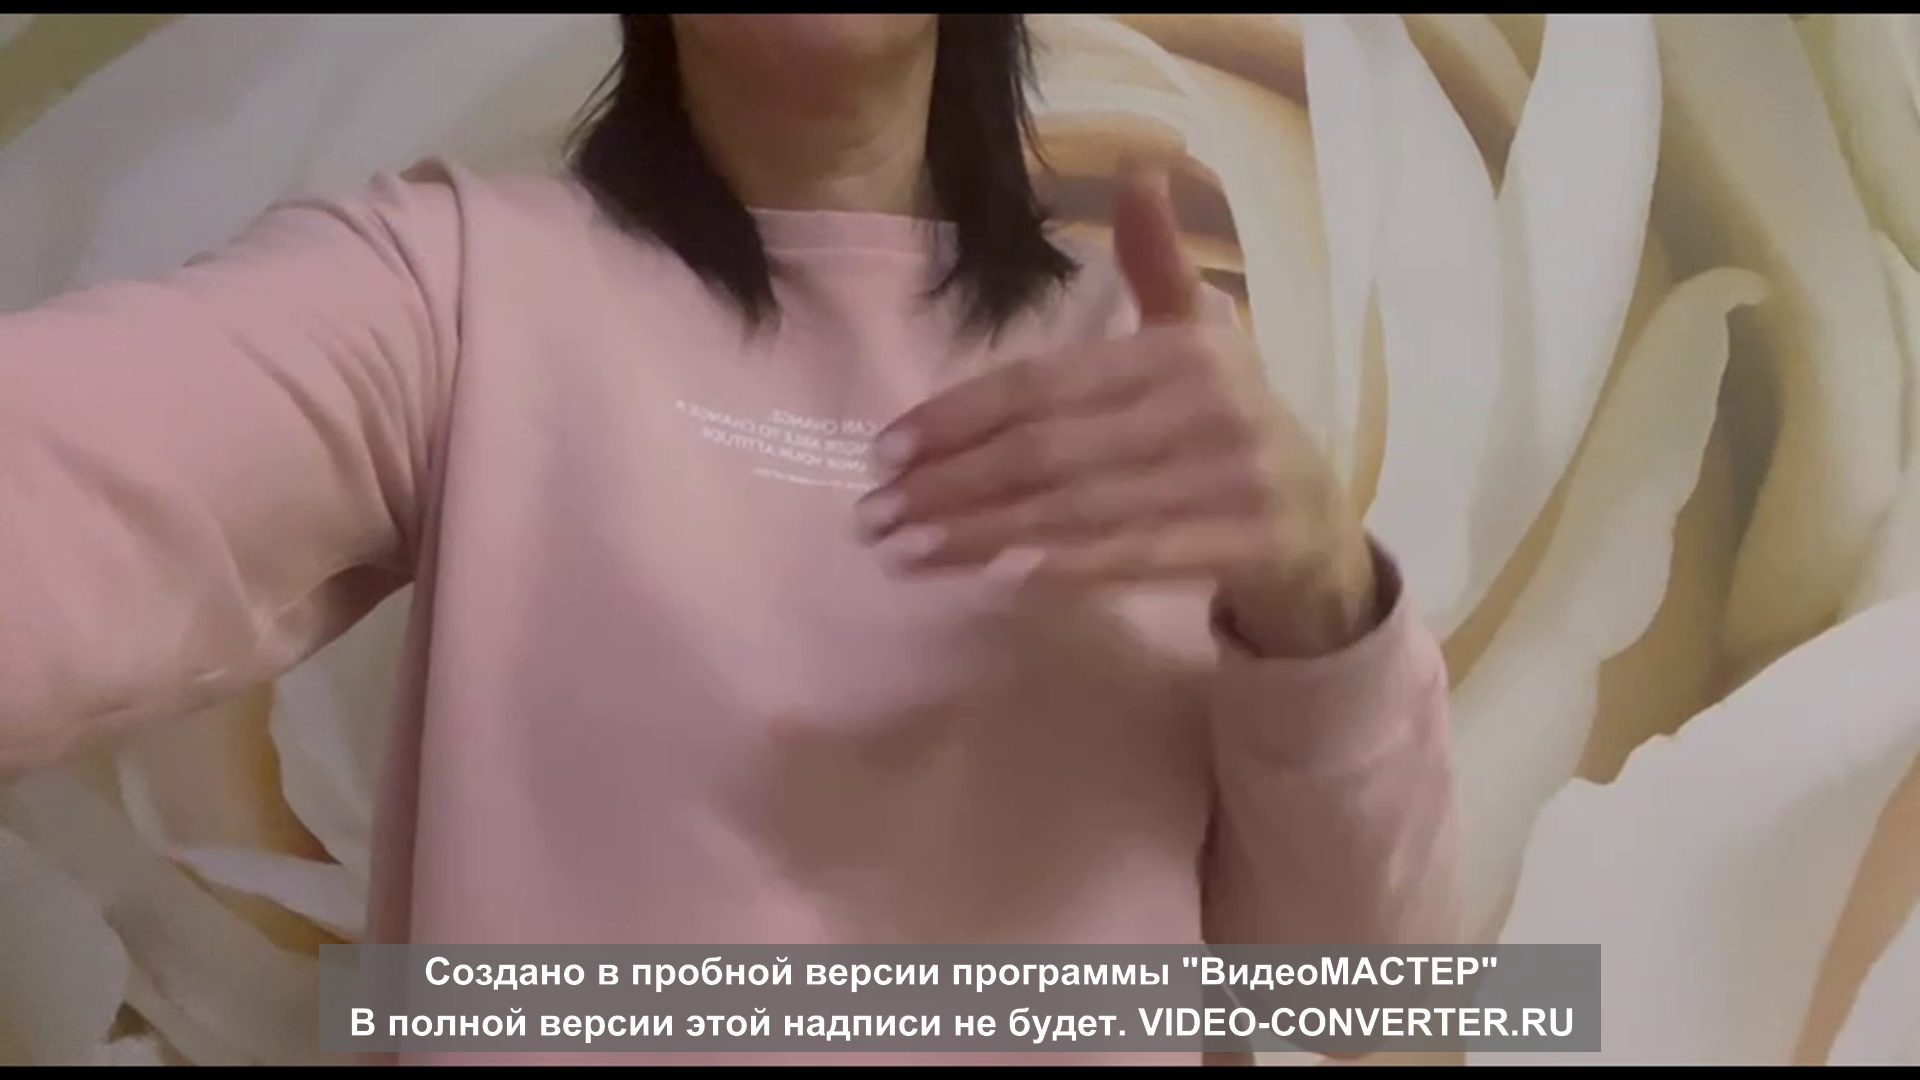Кисть: (847, 170, 1342, 591)
